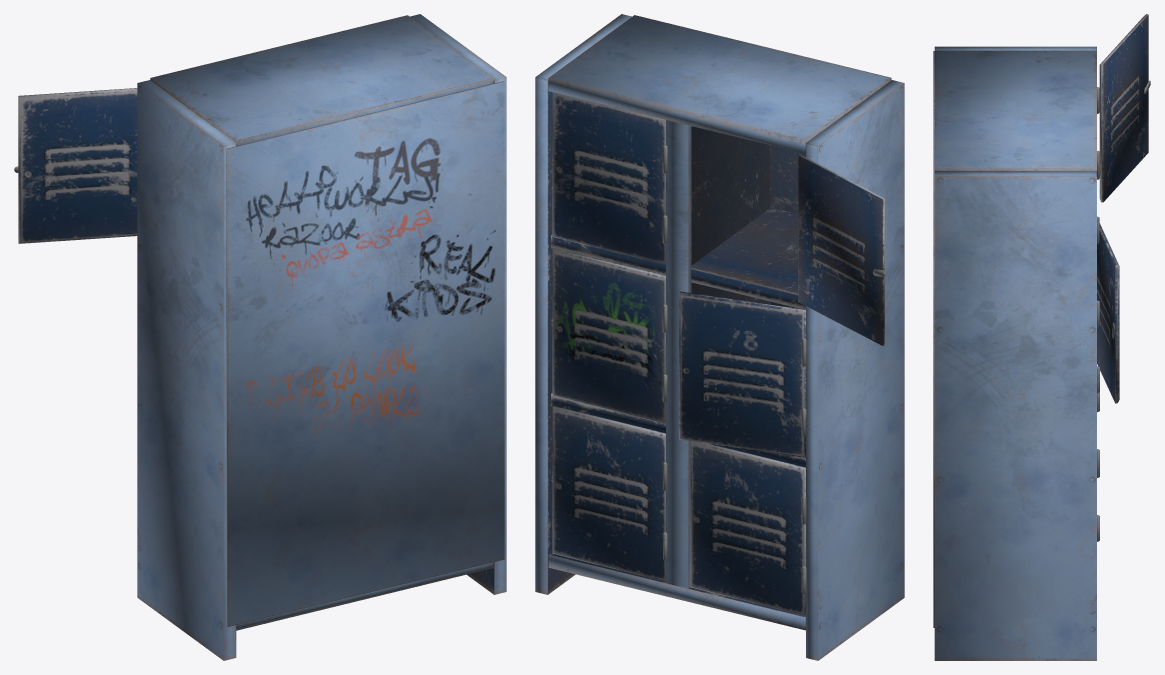
The model's file is old_lockers_lowpoly.glb.
3 views of the same model, side by side, from view 1: azimuth 30°, elevation 25°; view 2: azimuth 150°, elevation 25°; view 3: azimuth 270°, elevation 25° (orthographic). The views are drawn at different scales.
Visible parts, largest first — view 1: PersBoard; view 2: PersBoard; view 3: PersBoard.
Part boxes in pixels (x1,y1,x2,y2): PersBoard: [14, 14, 506, 660]; PersBoard: [535, 14, 904, 660]; PersBoard: [933, 14, 1150, 660].
Size of the model in its own units: 1.6 by 2.09 by 0.8459.
Materials: 1 (1 with a texture image).
